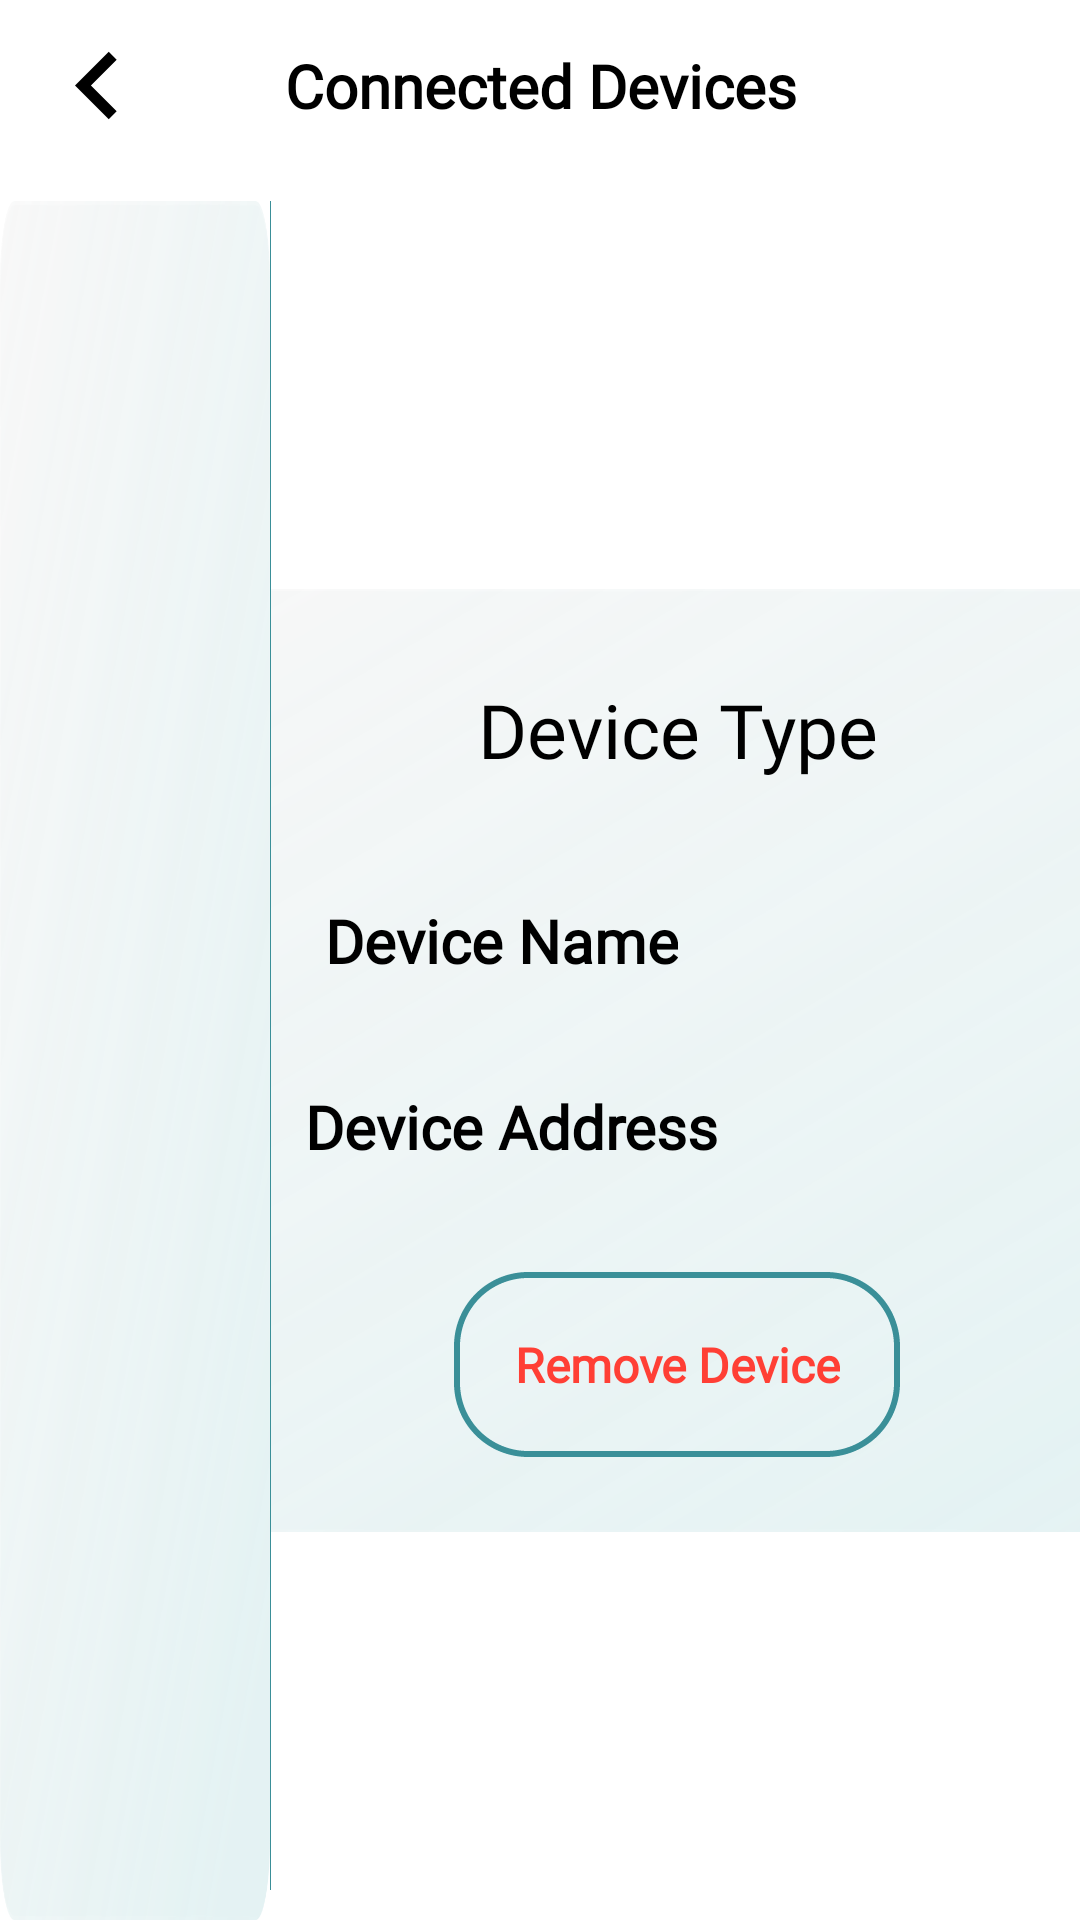

Where to tap for icons on this 1080w x 1920h app screen, as (x,y):
back arrow: (96,85)
